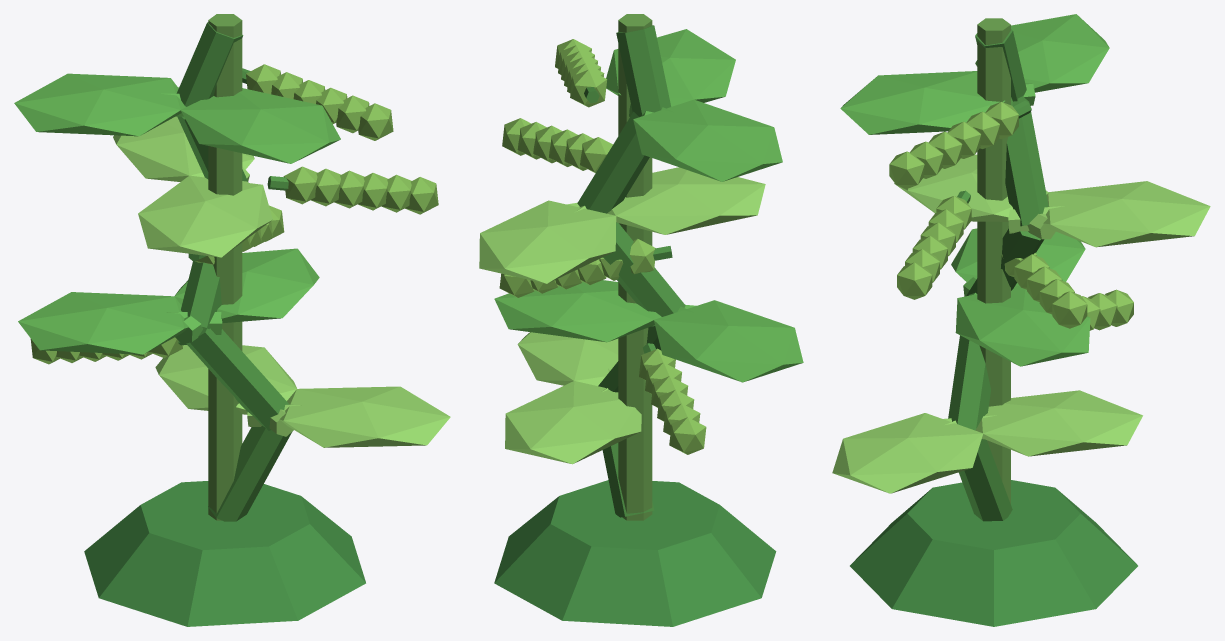
Rendered from BlackPepper.glb.
3 renders of one model, left to right at view 1: azimuth 30°, elevation 25°; view 2: azimuth 150°, elevation 25°; view 3: azimuth 270°, elevation 25°, orthographic.
Visible parts, largest first — view 1: BlackPepper_Leaf_01_-1, BlackPepper_Base, BlackPepper_Leaf_00_-1, BlackPepper_SpikeStem_00, BlackPepper_GreenCorn_00_00, BlackPepper_Support; view 2: BlackPepper_Base, BlackPepper_Leaf_01_-1, BlackPepper_Leaf_00_-1, BlackPepper_GreenCorn_00_00, BlackPepper_SpikeStem_00, BlackPepper_Support; view 3: BlackPepper_Leaf_00_-1, BlackPepper_Base, BlackPepper_Leaf_01_-1, BlackPepper_GreenCorn_00_00, BlackPepper_SpikeStem_00, BlackPepper_Support.
Part boxes in pixels (left/top/right/bottom): BlackPepper_Leaf_01_-1: left=14, top=73, right=340, bottom=354; BlackPepper_Base: left=84, top=481, right=365, bottom=626; BlackPepper_Leaf_00_-1: left=113, top=116, right=450, bottom=447; BlackPepper_SpikeStem_00: left=176, top=22, right=292, bottom=521; BlackPepper_GreenCorn_00_00: left=30, top=64, right=438, bottom=364; BlackPepper_Support: left=208, top=14, right=242, bottom=520; BlackPepper_Base: left=494, top=480, right=776, bottom=626; BlackPepper_Leaf_01_-1: left=494, top=29, right=803, bottom=382; BlackPepper_Leaf_00_-1: left=479, top=167, right=765, bottom=464; BlackPepper_GreenCorn_00_00: left=499, top=39, right=706, bottom=454; BlackPepper_SpikeStem_00: left=577, top=25, right=685, bottom=517; BlackPepper_Support: left=618, top=14, right=652, bottom=520; BlackPepper_Leaf_00_-1: left=832, top=154, right=1210, bottom=493; BlackPepper_Base: left=850, top=480, right=1137, bottom=626; BlackPepper_Leaf_01_-1: left=840, top=14, right=1109, bottom=366; BlackPepper_GreenCorn_00_00: left=889, top=102, right=1133, bottom=330; BlackPepper_SpikeStem_00: left=948, top=29, right=1048, bottom=521; BlackPepper_Support: left=977, top=18, right=1010, bottom=513.
Bounding box in the file's own units: 0.8274 × 1.24 × 0.7857.
